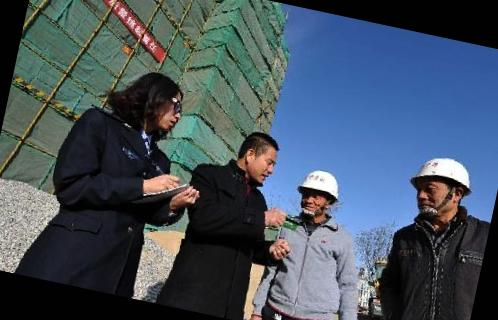no_helmet: (112, 56, 198, 144), (231, 123, 288, 188)
